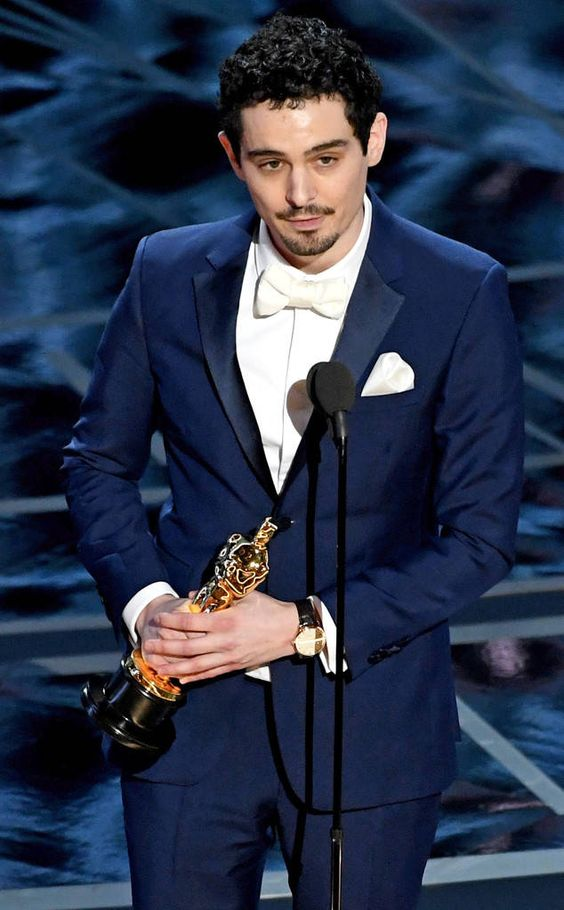hand: (144, 598, 215, 675)
